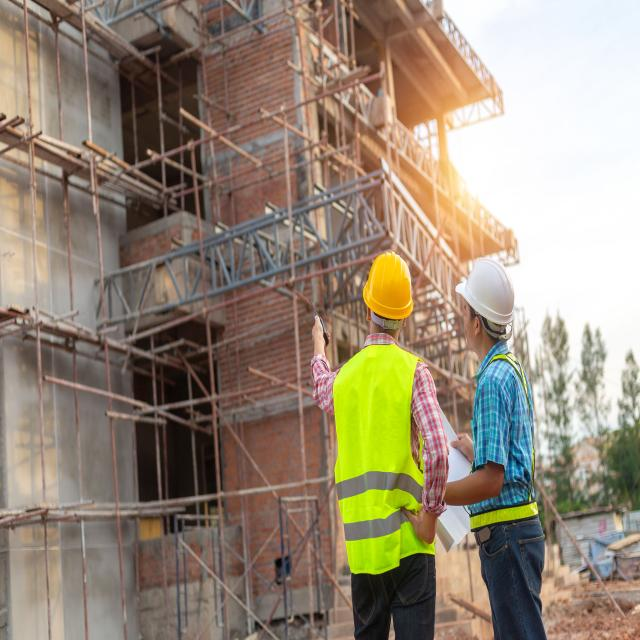helmet: (453, 249, 521, 339), (360, 248, 418, 322)
vest: (328, 337, 436, 561), (465, 345, 542, 537)
